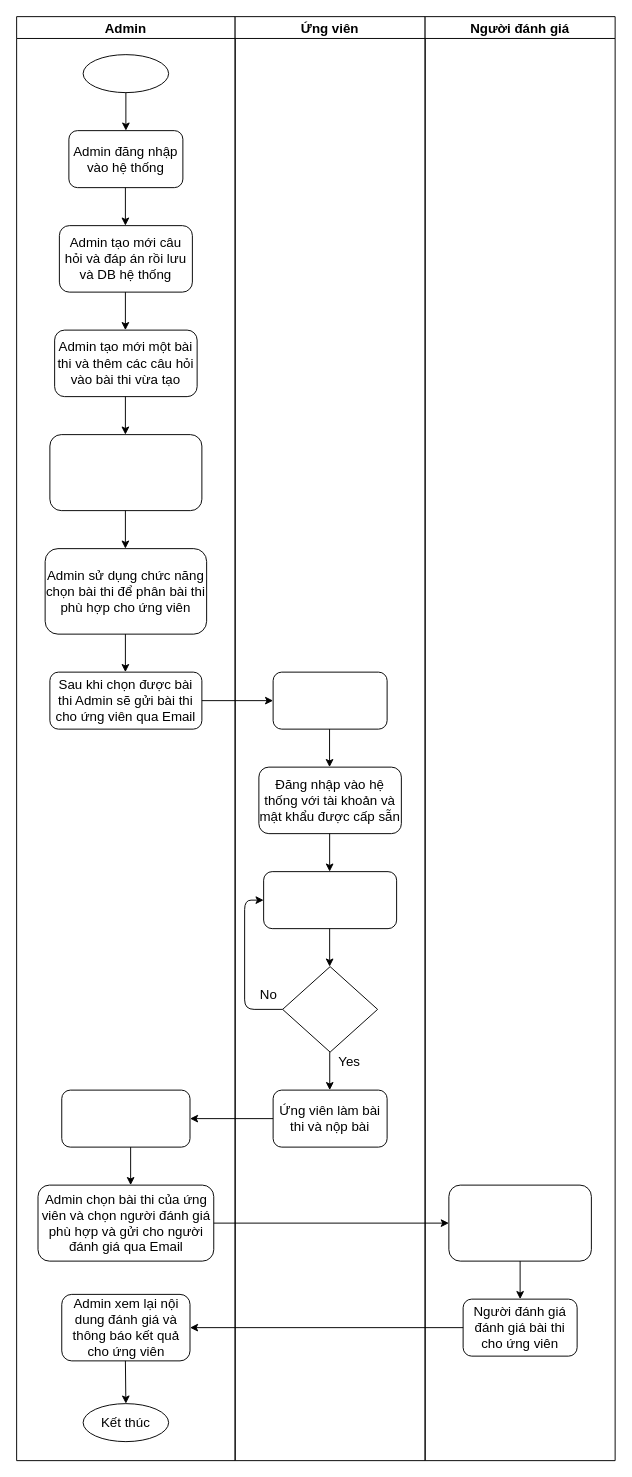
Image size: 632x1477. Some labels were removed from this diagram. The centre of each missing label's shape, as x and y in pixels:
Admin kiểm tra lại thông tin bài thi của ứng viên: the point at 125,1118
Admin vào quản lý ứng viên để thêm mới thông tin của úng viên ứng tuyển vào DB: the point at 125,472
Bắt đầu: the point at 125,73
Người đánh giá truy cập vào hệ thống qua link được gửi và đăng nhập vào hệ thống: the point at 519,1222
Đồng ý làm bài?: the point at 330,1009
Ứng viên kiểm tra lại thông tin của mình trước khi làm bài: the point at 330,900
Ứng viên truy cập vào link được gửi trong Email: the point at 329,700
